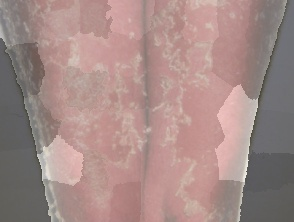SJS-TEN: (0, 0, 176, 222), (144, 0, 266, 222)
